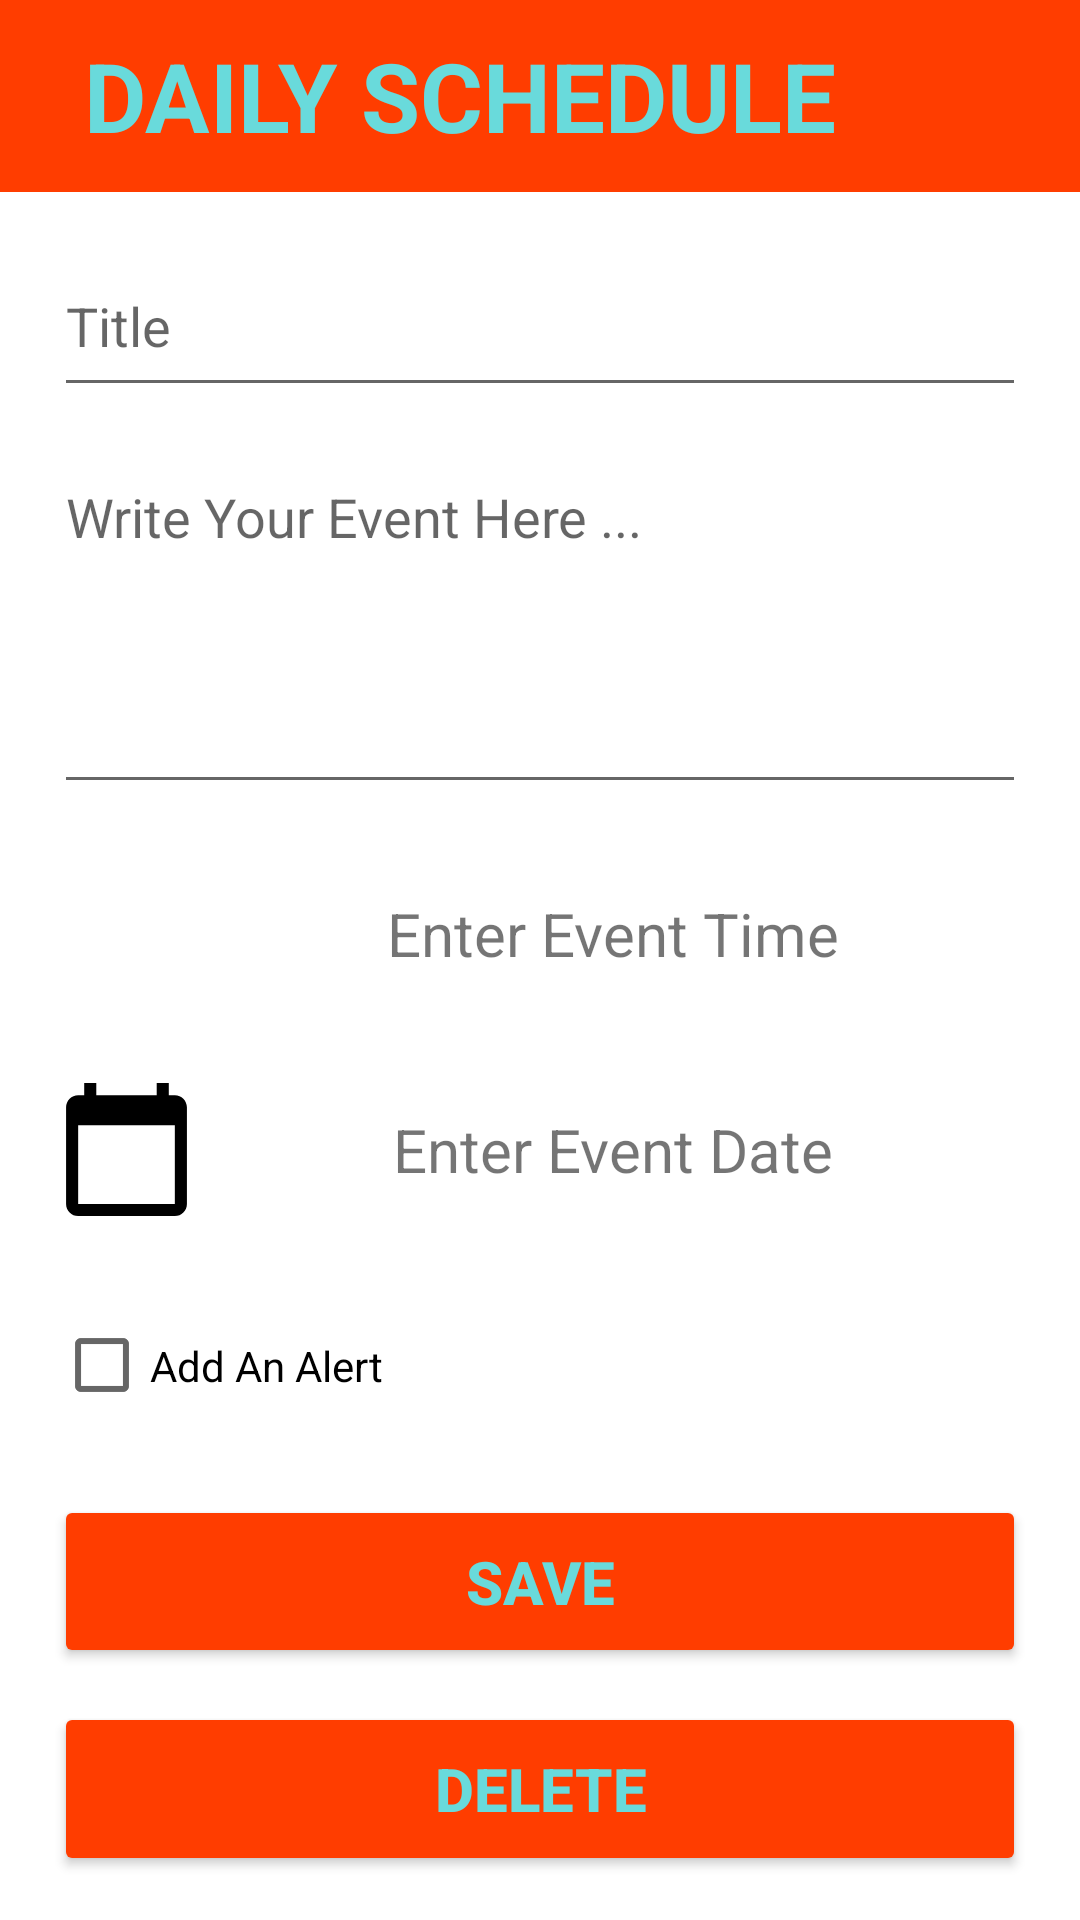

Where to tap for icons on this 1080 x 1920 app screen, as [x,y]:
calendar today: [126,1149]
